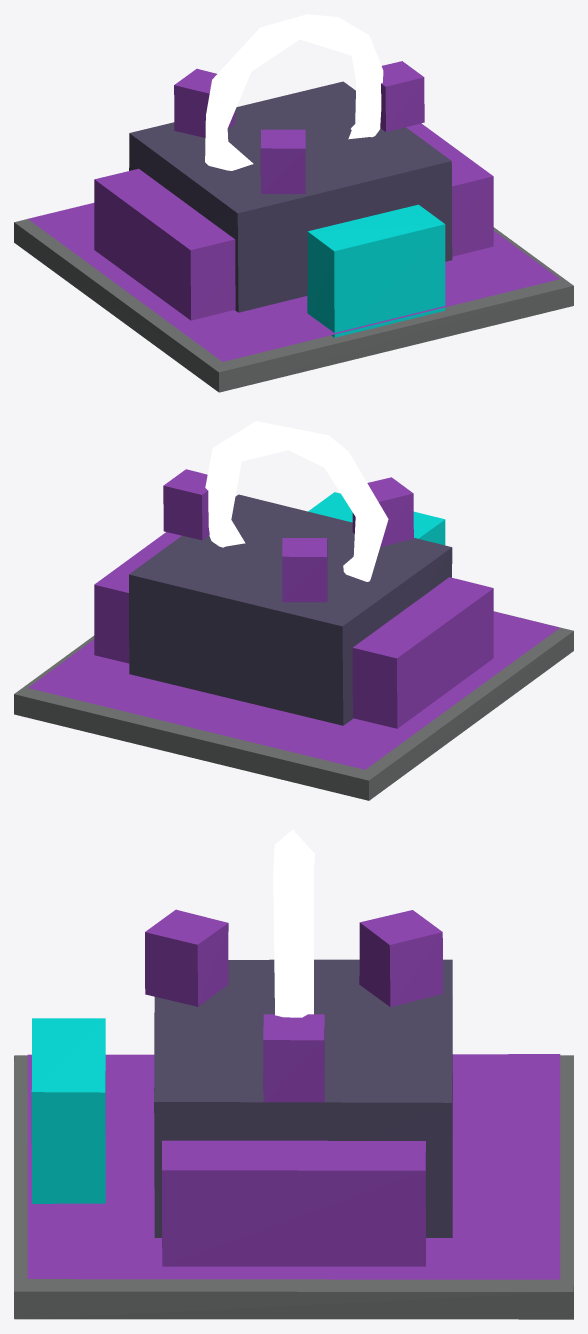
Rendered from SM_Chronolegion_CH_Barracks_LOD3.fbx.
3 renders of one model, top to bottom at view 1: azimuth 30°, elevation 25°; view 2: azimuth 150°, elevation 25°; view 3: azimuth 270°, elevation 25°, orthographic. The views are drawn at different scales.
Parts seen in each view (by area): view 1: LOD03_SM_Chronolegion_CH_Barracks; view 2: LOD03_SM_Chronolegion_CH_Barracks; view 3: LOD03_SM_Chronolegion_CH_Barracks.
Part boxes in pixels (x1=…): LOD03_SM_Chronolegion_CH_Barracks: x1=14, y1=14, x2=573, y2=392; LOD03_SM_Chronolegion_CH_Barracks: x1=14, y1=421, x2=573, y2=800; LOD03_SM_Chronolegion_CH_Barracks: x1=14, y1=829, x2=573, y2=1319.
Bounding box in the file's own units: 597 × 597 × 410.
